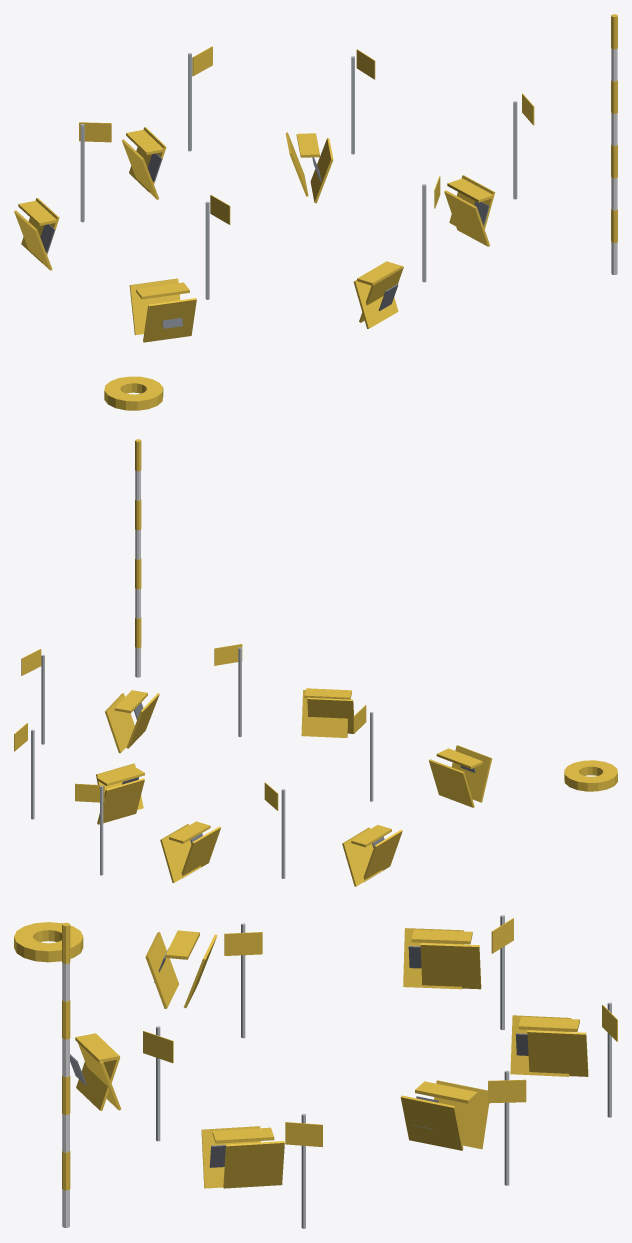
The model's file is ufo-crash-site-and-recovery-facility-survey-marker-set-9fd579ac__17343.glb.
The picture shows the model from 3 angles, top to bottom: view 1: azimuth 30°, elevation 25°; view 2: azimuth 150°, elevation 25°; view 3: azimuth 270°, elevation 25°; orthographic projection. The views are drawn at different scales.
Visible parts, largest first — view 1: survey-marker-set; view 2: survey-marker-set; view 3: survey-marker-set.
Part boxes in pixels (x1,y1,x2,y2): survey-marker-set: (14,14,617,410); survey-marker-set: (14,439,617,886); survey-marker-set: (14,915,617,1228).
Bounding box in the file's own units: 4.14 × 1.92 × 3.48.
